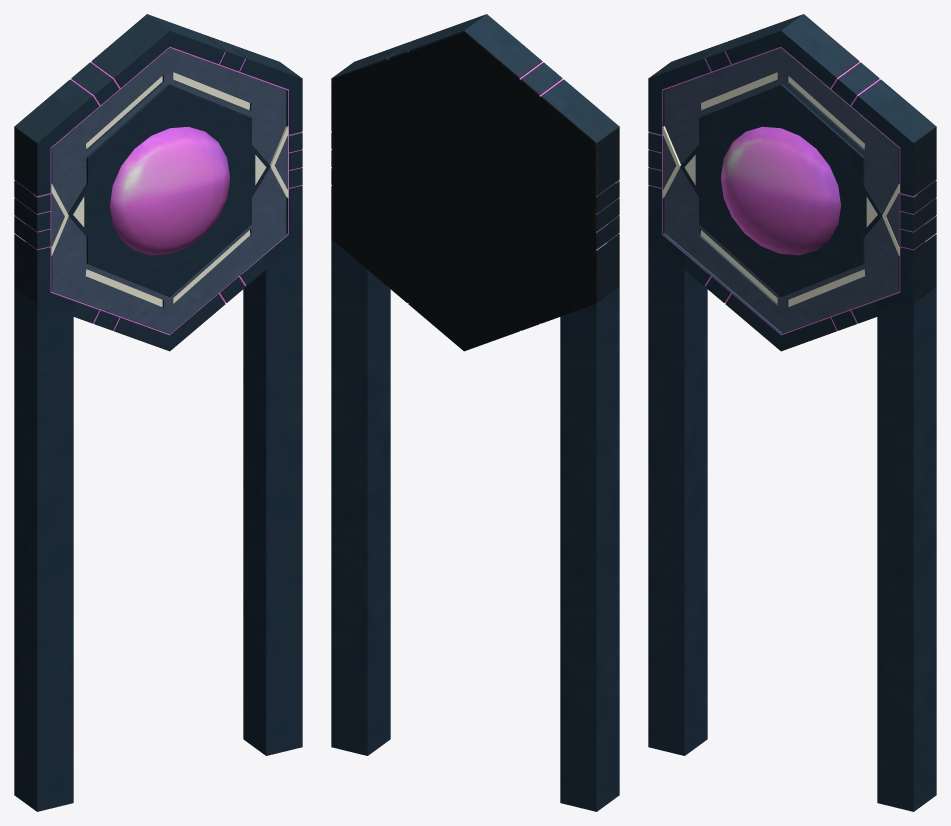
The model's file is teleporter.glb.
The picture shows the model from 3 angles, left to right: view 1: azimuth 30°, elevation 25°; view 2: azimuth 150°, elevation 25°; view 3: azimuth 330°, elevation 25°; orthographic projection.
Parts seen in each view (by area): view 1: Teleporter01_Art; view 2: Teleporter01_Art; view 3: Teleporter01_Art.
Part boxes in pixels (<box>): Teleporter01_Art: <box>14,14,302,811</box>; Teleporter01_Art: <box>331,14,619,811</box>; Teleporter01_Art: <box>648,14,936,811</box>.
Bounding box in the file's own units: 1.18 × 3.17 × 0.2489.
1 material, 1 textured.
